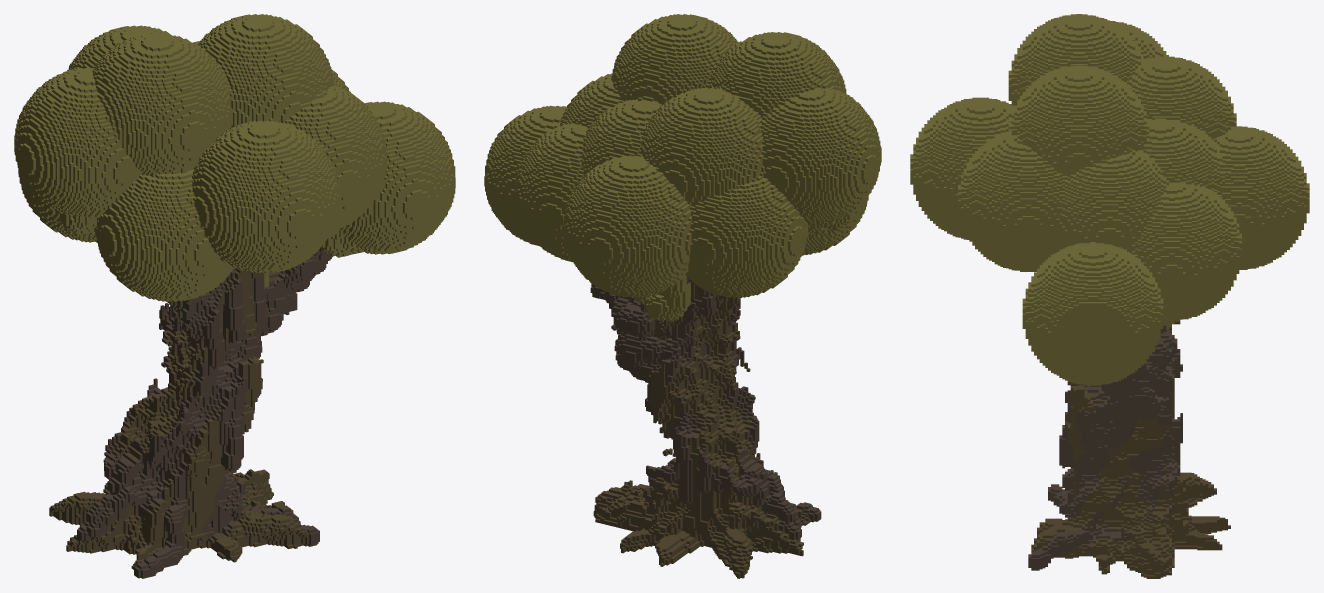
File: Tree0.obj
3 renders of one model, left to right at view 1: azimuth 30°, elevation 25°; view 2: azimuth 150°, elevation 25°; view 3: azimuth 270°, elevation 25°, orthographic. The views are drawn at different scales.
Size of the model in its own units: 15.5 by 19.1 by 14.2.
1 material, 1 textured.
